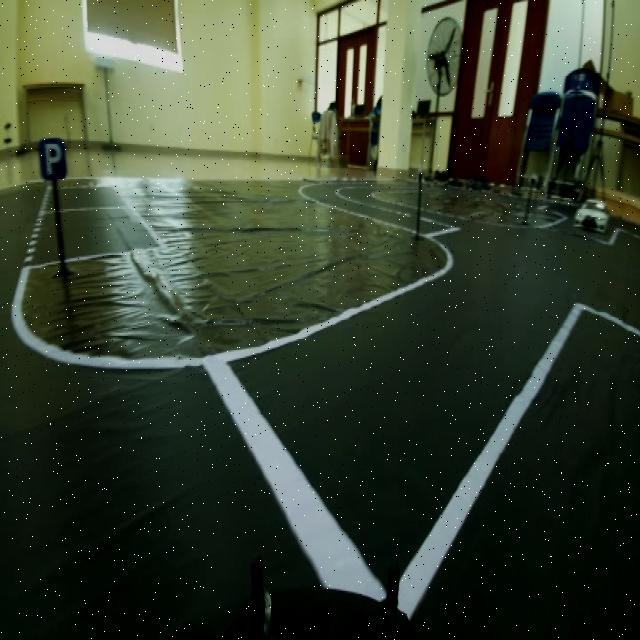parking: (23, 132, 77, 198)
